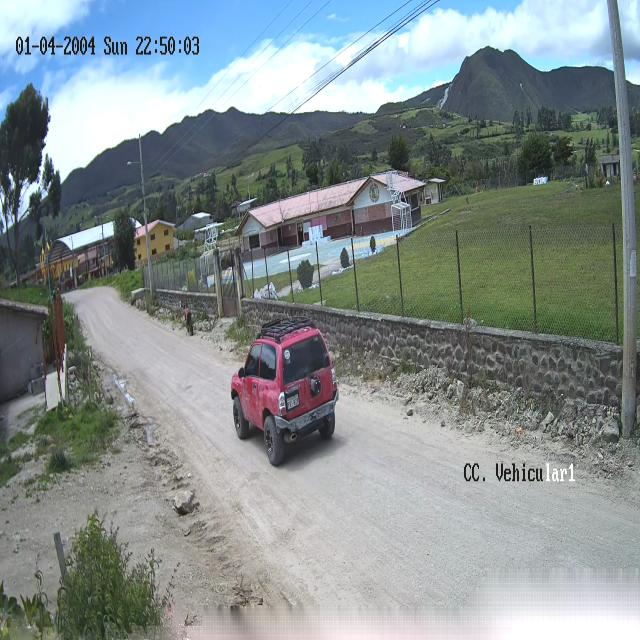SUV: (230, 327, 338, 468)
